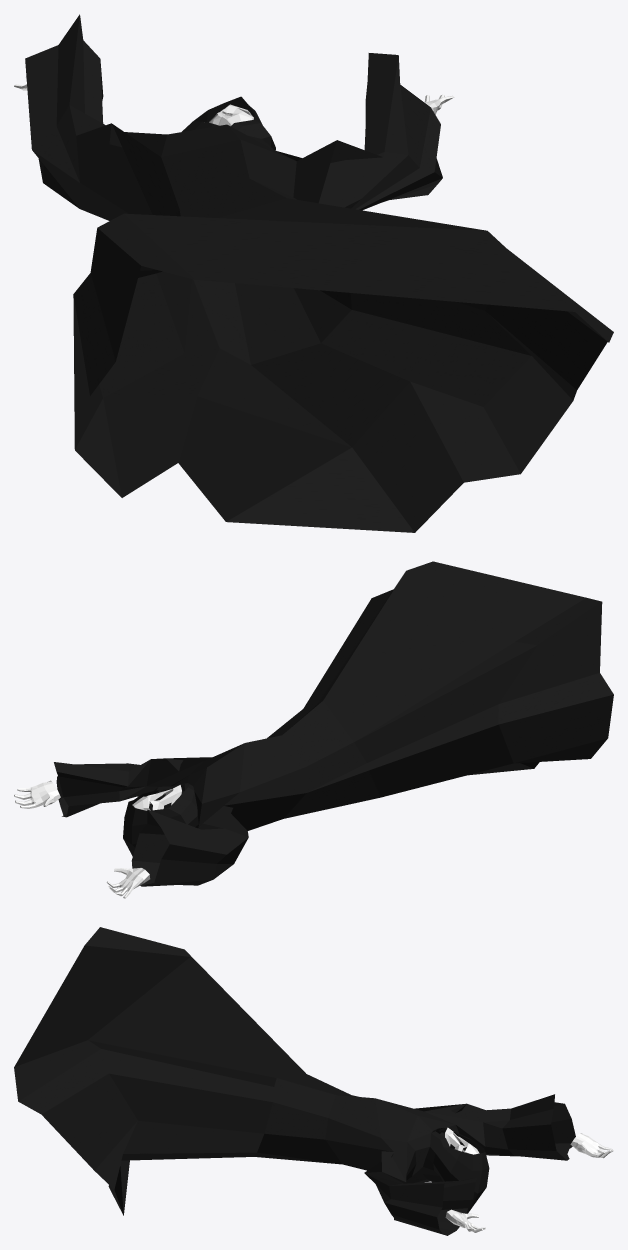
The model's file is ReaperDead(89).obj.
3 views of the same model, one above another, from view 1: azimuth 30°, elevation 25°; view 2: azimuth 150°, elevation 25°; view 3: azimuth 270°, elevation 25° (orthographic). The views are drawn at different scales.
Parts seen in each view (by area): view 1: Plane003; view 2: Plane003; view 3: Plane003.
Boxes of the visible parts, x1,y1,x2,y2 form: Plane003: [14, 14, 613, 532]; Plane003: [14, 561, 613, 898]; Plane003: [14, 927, 613, 1235].
Size of the model in its own units: 214 by 106 by 293.
